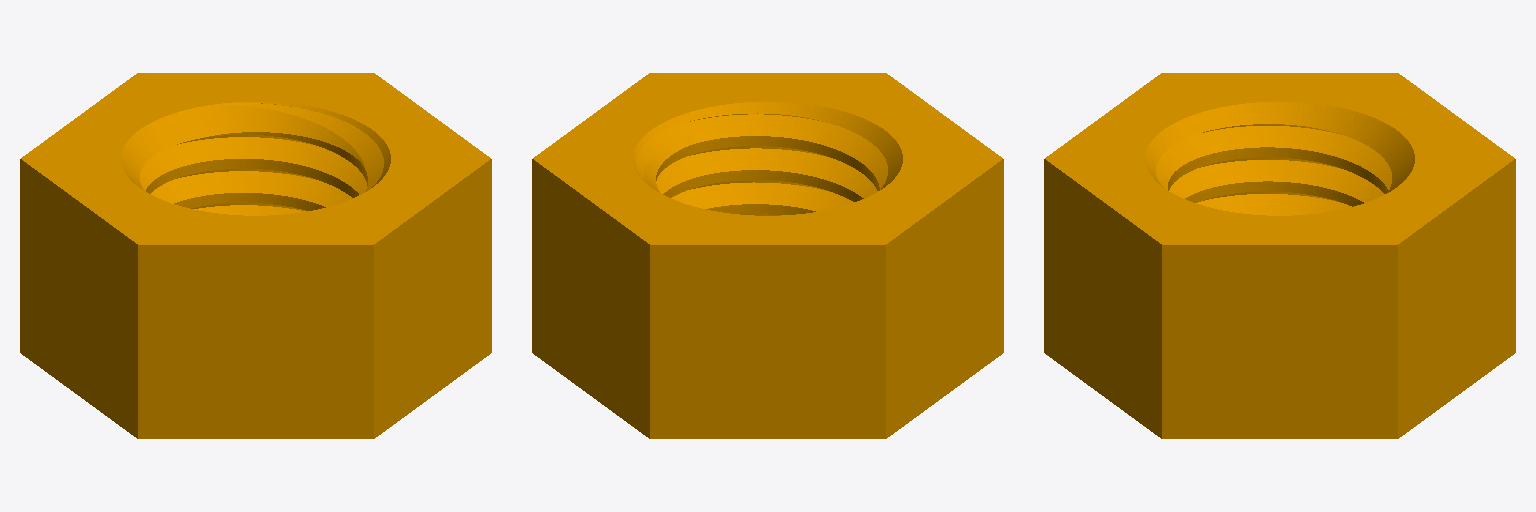
robot.urdf — factory_nut_m12_loose:
<?xml version="1.0"?>
<robot name="factory_nut_m12_loose">
    <link name="factory_nut_m12_loose">
        <visual>
            <geometry>
                <mesh filename="../mesh/factory_nut_bolt/factory_nut_m12_loose_subdiv_3x.obj"/>
            </geometry>
        </visual>
        <collision>
            <geometry>
                <mesh filename="../mesh/factory_nut_bolt/factory_nut_m12_loose_subdiv_3x.obj"/>
            </geometry>
            <sdf resolution="256"/>
        </collision>
    </link>
</robot>

--- What the picture shows (computed from the rendered views, not written in the file) ---
Views: 3 orthographic renders of the robot side by side, from view 1: azimuth 30°, elevation 25°; view 2: azimuth 150°, elevation 25°; view 3: azimuth 270°, elevation 25°.
Robot: factory_nut_m12_loose — 1 links, 0 joints (none); root link factory_nut_m12_loose; default pose: every joint at zero.
Visible links, largest first — view 1: factory_nut_m12_loose; view 2: factory_nut_m12_loose; view 3: factory_nut_m12_loose.
Link boxes in pixels (left/top/right/bottom): factory_nut_m12_loose: left=20, top=73, right=491, bottom=438; factory_nut_m12_loose: left=532, top=73, right=1003, bottom=438; factory_nut_m12_loose: left=1044, top=73, right=1515, bottom=438.
Size in the robot's own frame: 0.019 by 0.0219 by 0.01 metres.
1 mesh visuals loaded from 1 distinct referenced files (1 OBJ).